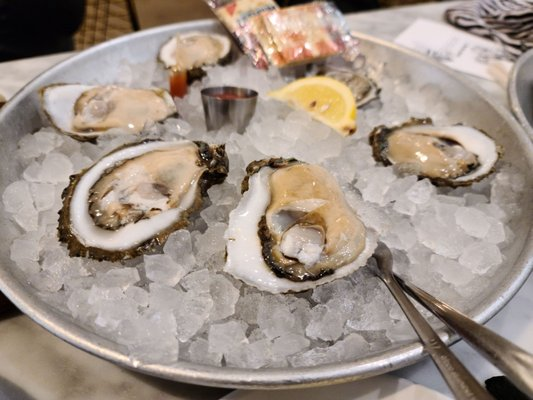pizza: (201, 85, 258, 136)
sandwich: (368, 237, 532, 400)
soup: (223, 156, 370, 296), (59, 138, 230, 258)
